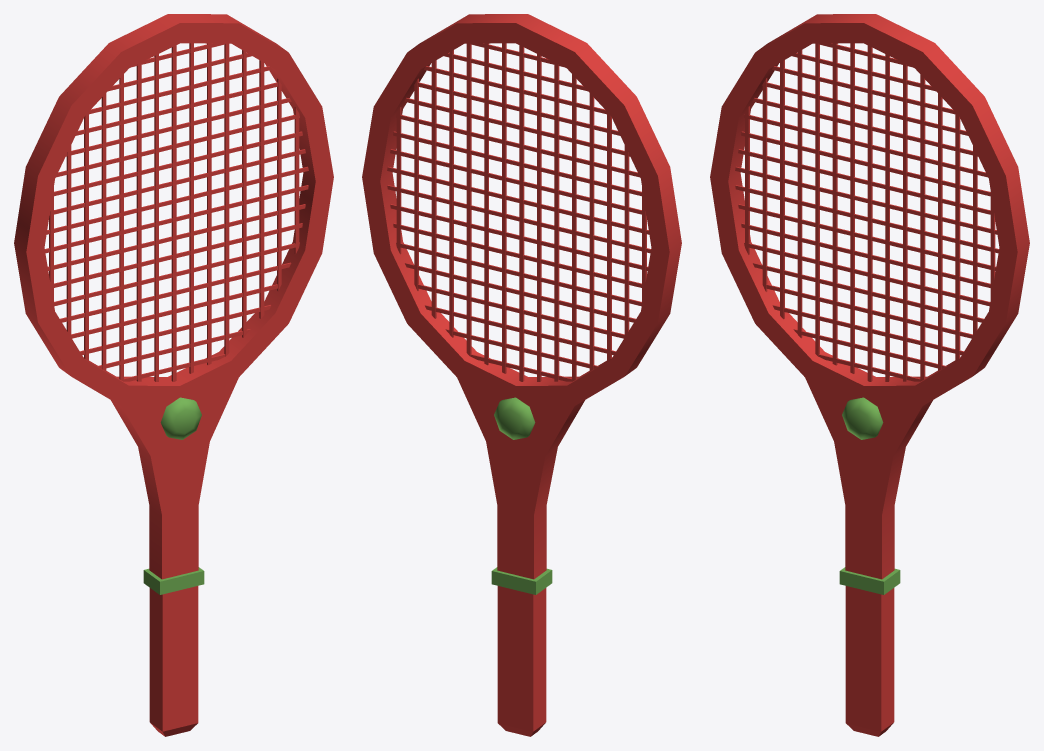
File: TennisRacket_01.fbx
3 renders of one model, left to right at view 1: azimuth 30°, elevation 25°; view 2: azimuth 150°, elevation 25°; view 3: azimuth 330°, elevation 25°, orthographic.
Visible parts, largest first — view 1: TennisRacket_01; view 2: TennisRacket_01; view 3: TennisRacket_01.
Part boxes in pixels (x1,y1,x2,y2): TennisRacket_01: (14,14,333,736); TennisRacket_01: (362,14,681,736); TennisRacket_01: (710,14,1029,736).
Size of the model in its own units: 0.3213 by 0.7112 by 0.0406.
